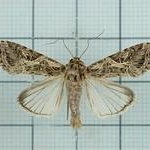Spodoptera litura: (0, 30, 149, 128)
